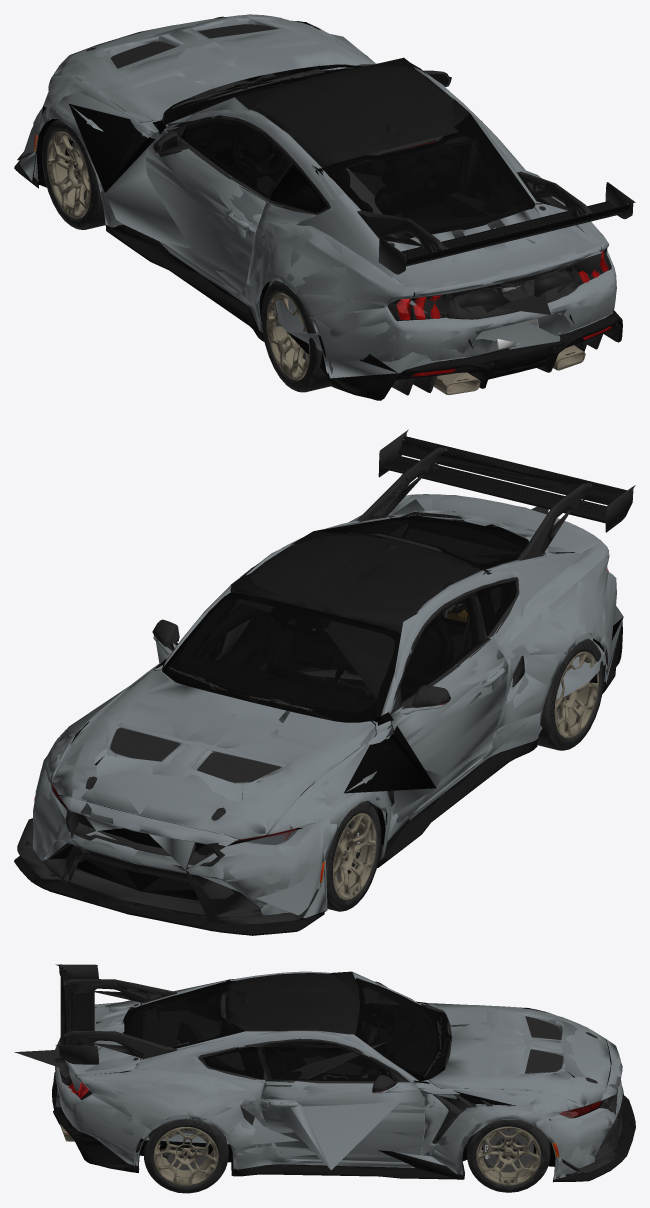
The model's file is mustang-gtd.glb.
3 renders of one model, top to bottom at view 1: azimuth 30°, elevation 25°; view 2: azimuth 150°, elevation 25°; view 3: azimuth 270°, elevation 25°, orthographic. The views are drawn at different scales.
Visible parts, largest first — view 1: BODY.001, LOD1_BODY, LOD2_BODY, LOD3_BODY, INT_interior.001, WHEEL_FL_LOD0, WHEEL_RL_LOD0, STEERING_WHEEL; view 2: BODY.001, LOD1_BODY, LOD2_BODY, LOD3_BODY, INT_interior.001, WHEEL_FL_LOD0, WHEEL_RL_LOD0; view 3: BODY.001, LOD1_BODY, LOD2_BODY, LOD3_BODY, INT_interior.001, WHEEL_FR_LOD0, WHEEL_RR_LOD0.
Part boxes in pixels (bbox=[...]): BODY.001: bbox=[14, 14, 633, 400]; LOD1_BODY: bbox=[14, 14, 624, 400]; LOD2_BODY: bbox=[20, 15, 635, 378]; LOD3_BODY: bbox=[20, 57, 610, 377]; INT_interior.001: bbox=[184, 83, 528, 237]; WHEEL_FL_LOD0: bbox=[42, 119, 105, 229]; WHEEL_RL_LOD0: bbox=[261, 280, 330, 392]; STEERING_WHEEL: bbox=[224, 126, 284, 178]; BODY.001: bbox=[14, 432, 633, 934]; LOD1_BODY: bbox=[14, 436, 626, 935]; LOD2_BODY: bbox=[34, 429, 635, 923]; LOD3_BODY: bbox=[34, 515, 621, 917]; INT_interior.001: bbox=[180, 520, 523, 710]; WHEEL_FL_LOD0: bbox=[326, 801, 381, 911]; WHEEL_RL_LOD0: bbox=[537, 639, 604, 750]; BODY.001: bbox=[52, 964, 635, 1182]; LOD1_BODY: bbox=[52, 965, 635, 1181]; LOD2_BODY: bbox=[14, 964, 621, 1179]; LOD3_BODY: bbox=[59, 972, 558, 1155]; INT_interior.001: bbox=[127, 982, 436, 1080]; WHEEL_FR_LOD0: bbox=[467, 1119, 550, 1192]; WHEEL_RR_LOD0: bbox=[143, 1119, 228, 1193].
Size of what is drawn, in the model's own units: 2.46 by 1.36 by 5.22.
25 materials, 18 textured.
